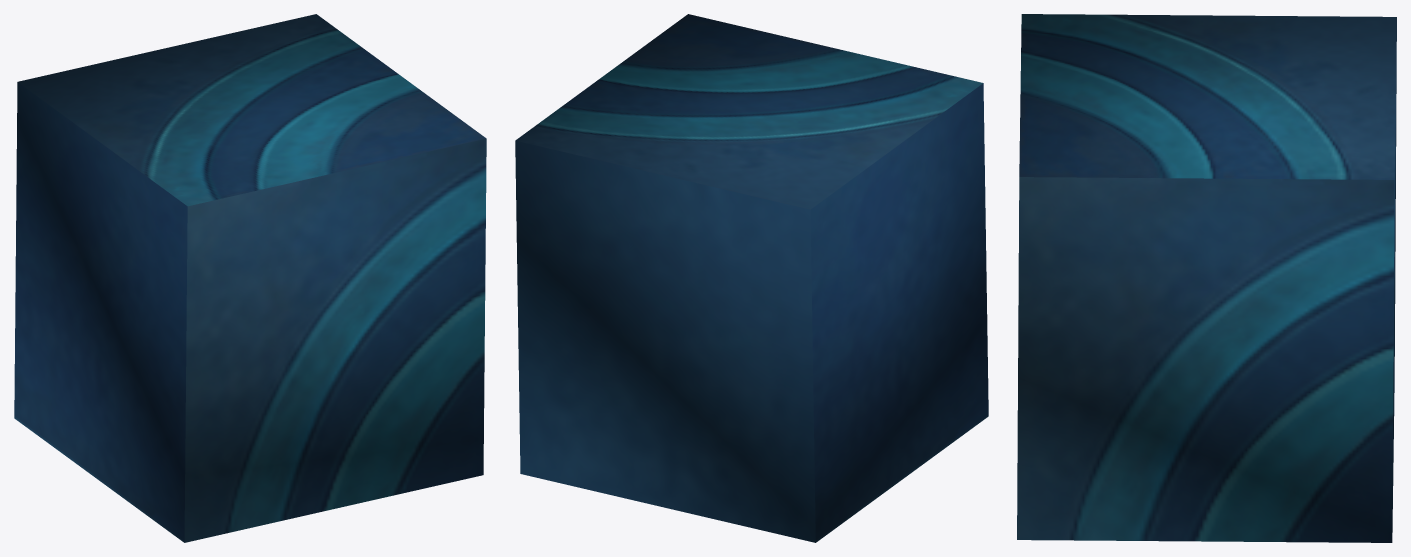
Rendered from pvp_ zhuankuai_04.FBX.
3 views of the same model, side by side, from view 1: azimuth 30°, elevation 25°; view 2: azimuth 150°, elevation 25°; view 3: azimuth 270°, elevation 25° (orthographic). The views are drawn at different scales.
Parts seen in each view (by area): view 1: pvp_ zhuankuai_04; view 2: pvp_ zhuankuai_04; view 3: pvp_ zhuankuai_04.
Boxes of the visible parts, <box> form: pvp_ zhuankuai_04: <box>14,14,486,542</box>; pvp_ zhuankuai_04: <box>515,14,988,542</box>; pvp_ zhuankuai_04: <box>1017,14,1396,542</box>.
Bounding box in the file's own units: 0.5572 × 0.5967 × 0.5529.
